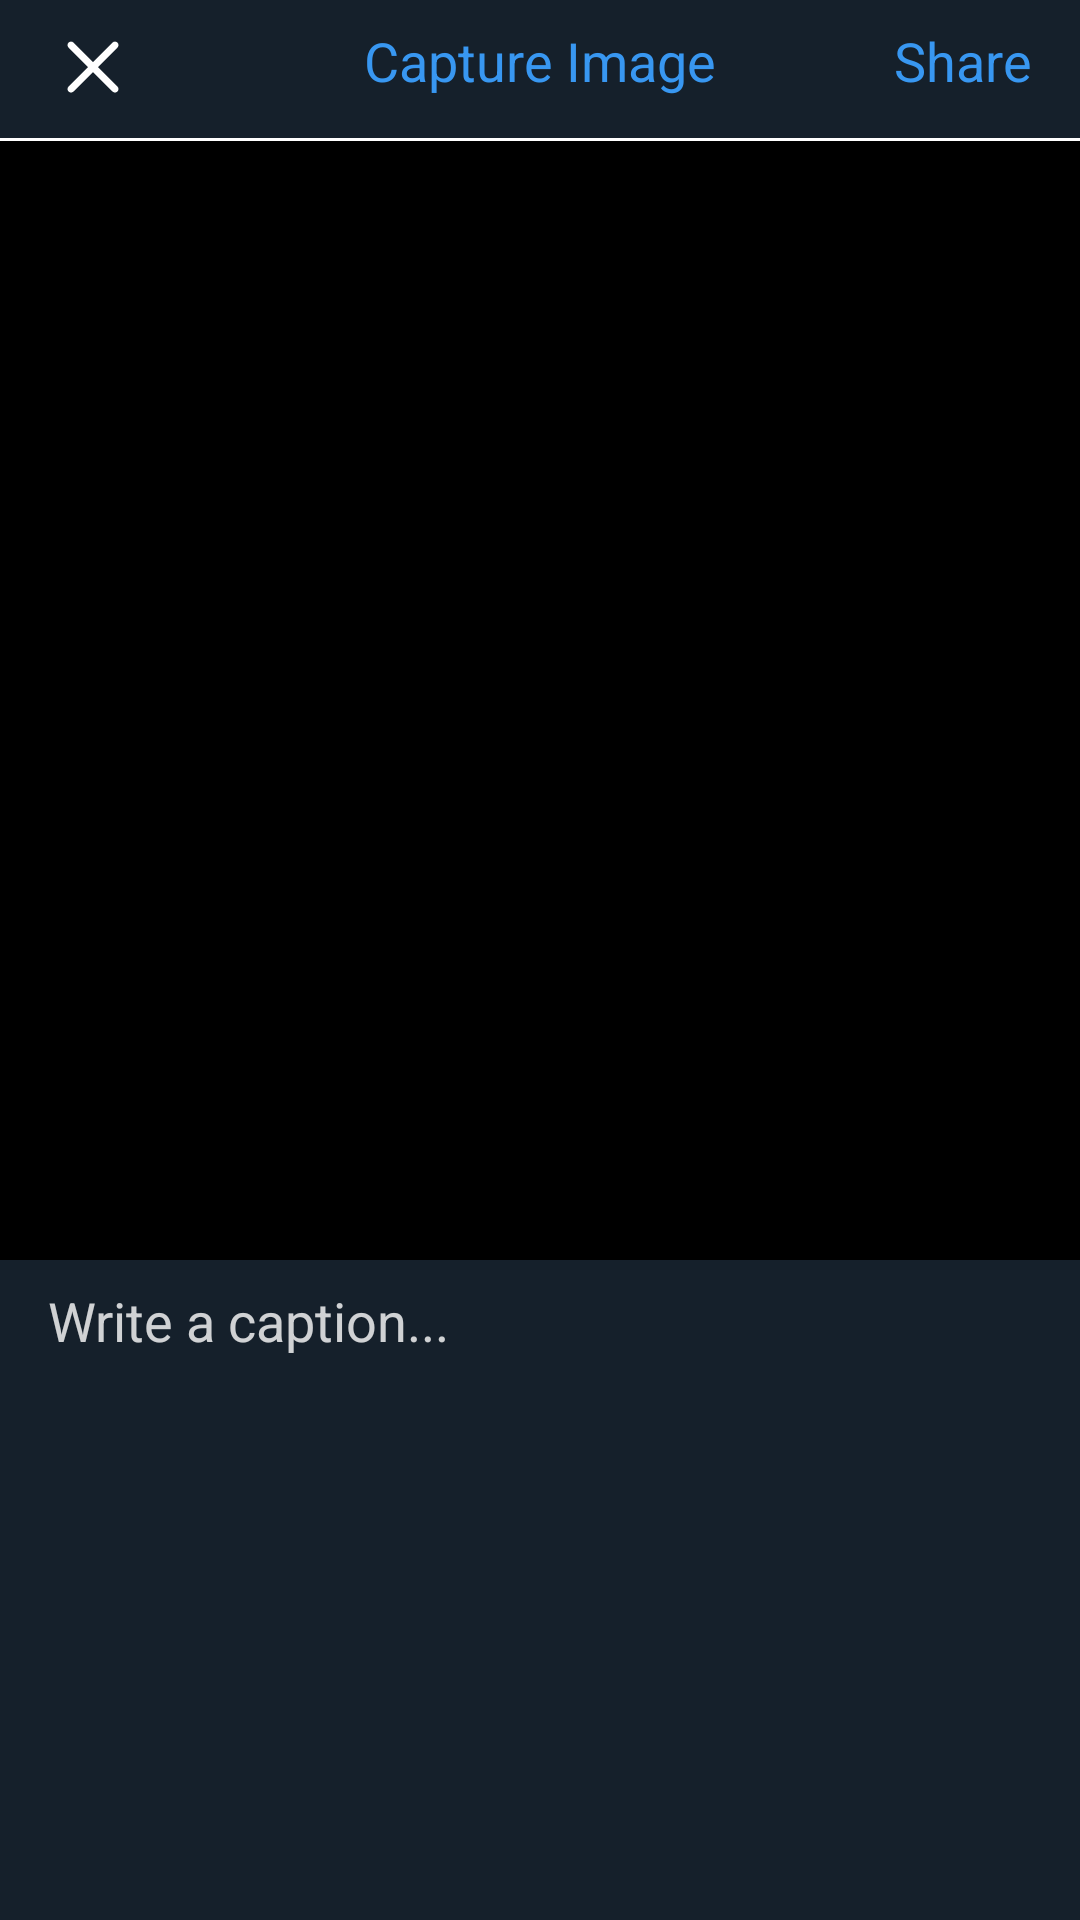

Screen size 1080 x 1920. Icon name, then its box in pixels as (x1, y1, x2, y2):
cancel: (67, 41, 119, 93)
